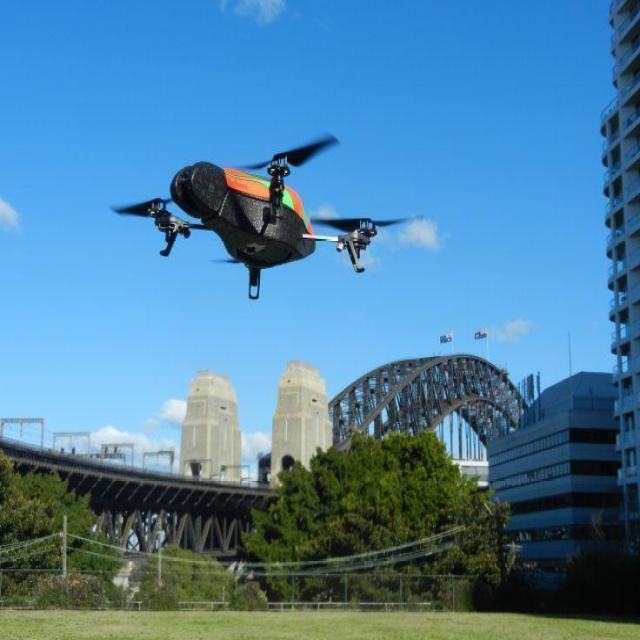UAV: (150, 142, 373, 302)
